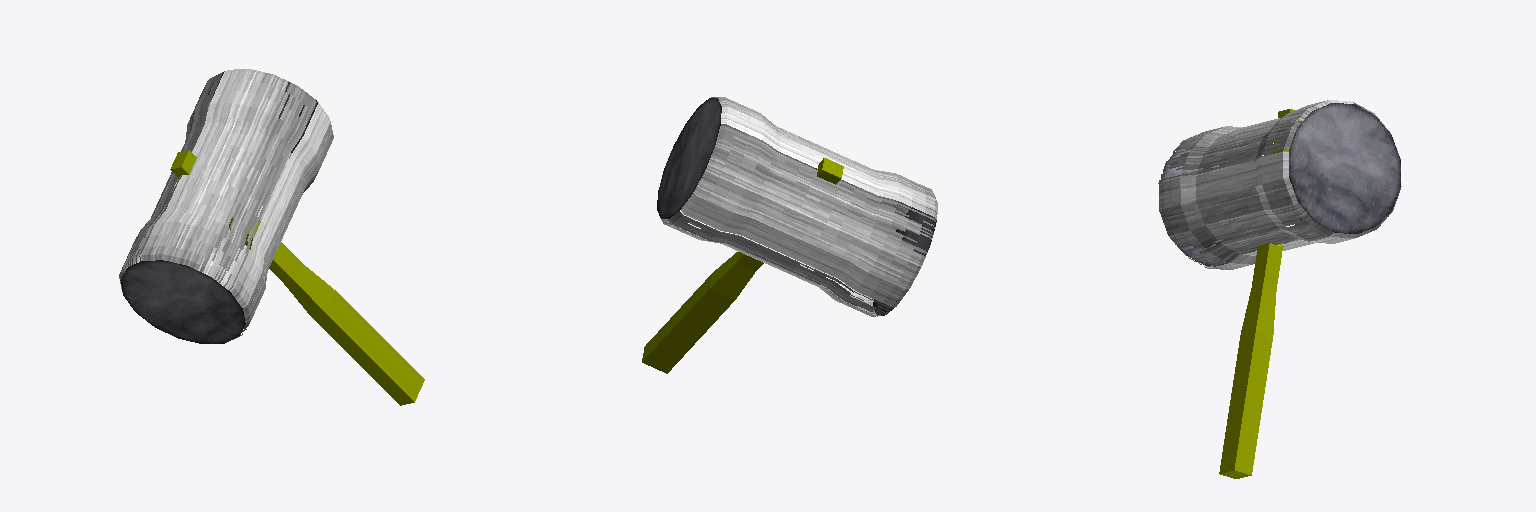
3 views of the same model, side by side, from view 1: azimuth 30°, elevation 25°; view 2: azimuth 150°, elevation 25°; view 3: azimuth 270°, elevation 25° (orthographic).
Parts seen in each view (by area): view 1: JOBJ_0_DOBJ_0_POBJ_0, JOBJ_0_DOBJ_1_POBJ_02, JOBJ_0_DOBJ_2_POBJ_02; view 2: JOBJ_0_DOBJ_0_POBJ_0, JOBJ_0_DOBJ_2_POBJ_02, JOBJ_0_DOBJ_1_POBJ_02; view 3: JOBJ_0_DOBJ_0_POBJ_0, JOBJ_0_DOBJ_1_POBJ_02, JOBJ_0_DOBJ_2_POBJ_02.
Part boxes in pixels (x1,y1,x2,y2): JOBJ_0_DOBJ_0_POBJ_0: (119, 69, 333, 339); JOBJ_0_DOBJ_1_POBJ_02: (120, 72, 317, 343); JOBJ_0_DOBJ_2_POBJ_02: (170, 150, 424, 405); JOBJ_0_DOBJ_0_POBJ_0: (661, 97, 937, 316); JOBJ_0_DOBJ_2_POBJ_02: (642, 158, 843, 373); JOBJ_0_DOBJ_1_POBJ_02: (657, 98, 936, 315); JOBJ_0_DOBJ_0_POBJ_0: (1158, 100, 1401, 269); JOBJ_0_DOBJ_1_POBJ_02: (1160, 103, 1400, 266); JOBJ_0_DOBJ_2_POBJ_02: (1219, 109, 1298, 478).
Bounding box in the file's own units: 13.19 × 14.12 × 9.49.
3 materials, 3 textured.